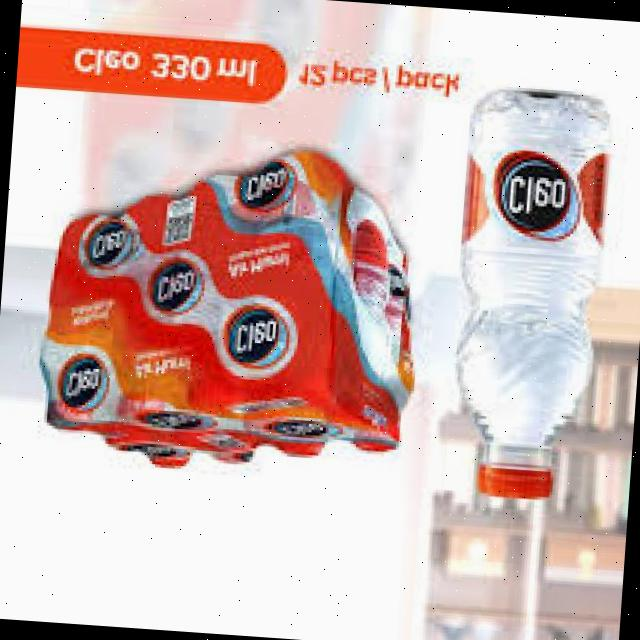bottle: (432, 70, 626, 509)
cap: (468, 459, 557, 508)
label: (444, 136, 606, 259)
